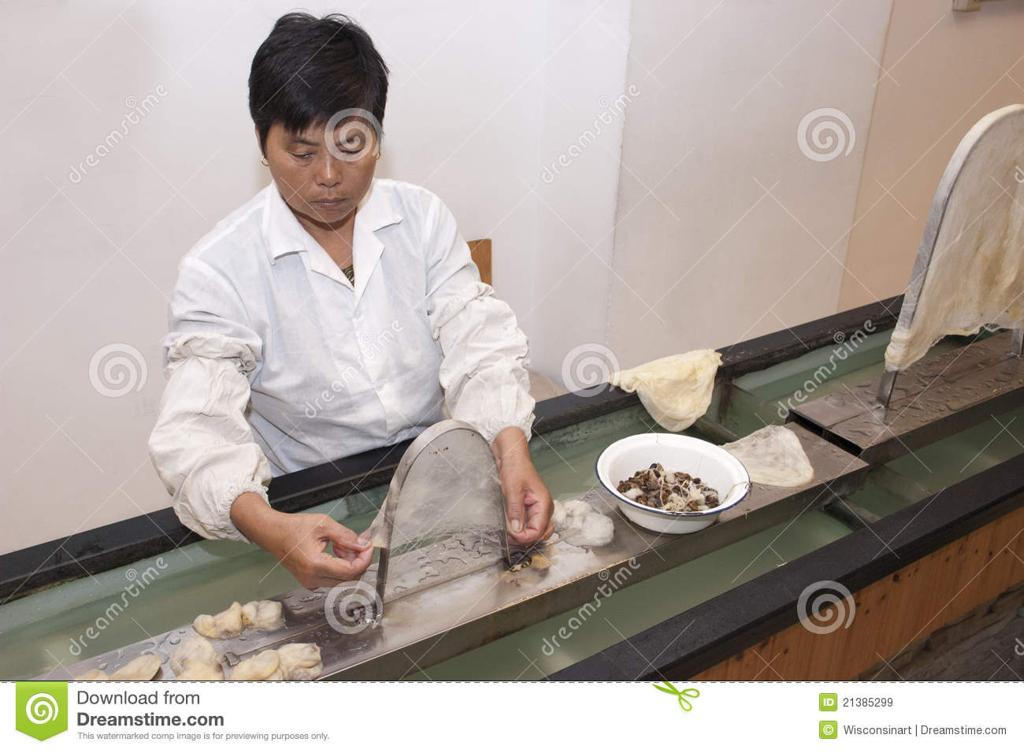face: (274, 86, 376, 216)
